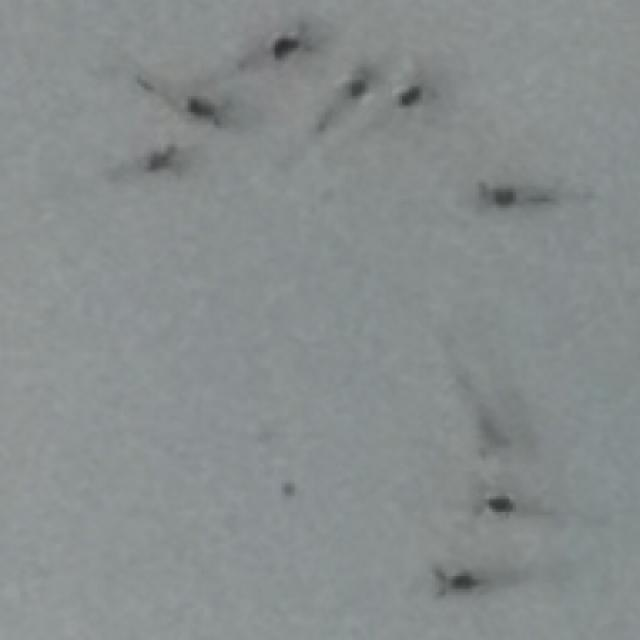shrimp-seed: (427, 560, 489, 606), (474, 178, 548, 215), (180, 91, 236, 137), (472, 410, 518, 462), (272, 21, 322, 67), (138, 143, 190, 185), (470, 486, 518, 528), (338, 65, 380, 106), (394, 76, 436, 115)
